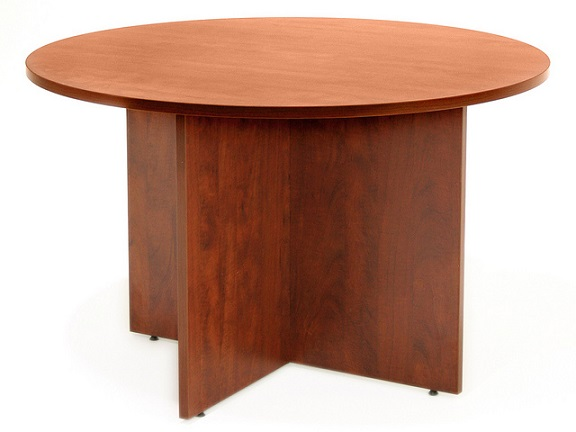conference_table: (25, 16, 553, 420)
